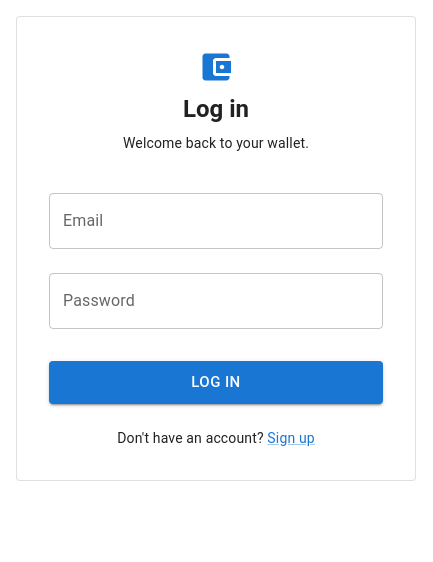
Test: Login › shows an error on invalid credentials without navigating
Type "alice@example.com" into the field labelled "Email".
click(216, 221); type("alice@example.com")  # box [49, 193, 383, 249]
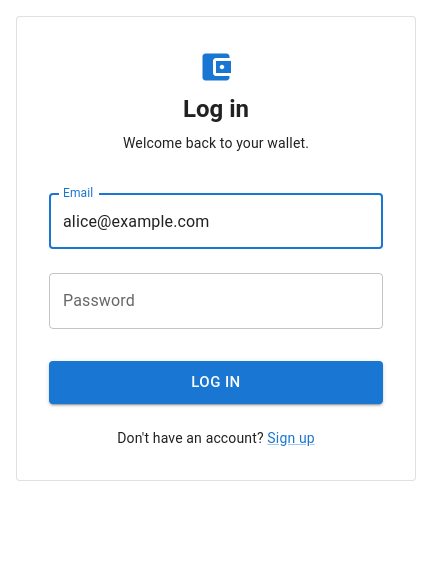
Type "wrongpassword" into the password field labelled "Password".
click(216, 301); type("wrongpassword")  # box [49, 273, 383, 329]
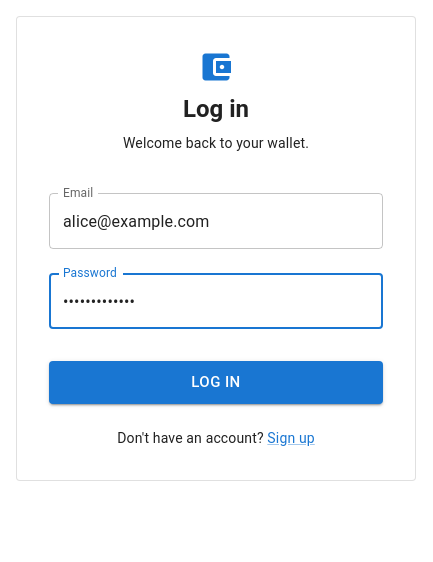
Click the button "Log in".
click(216, 383)  # box [49, 361, 383, 404]
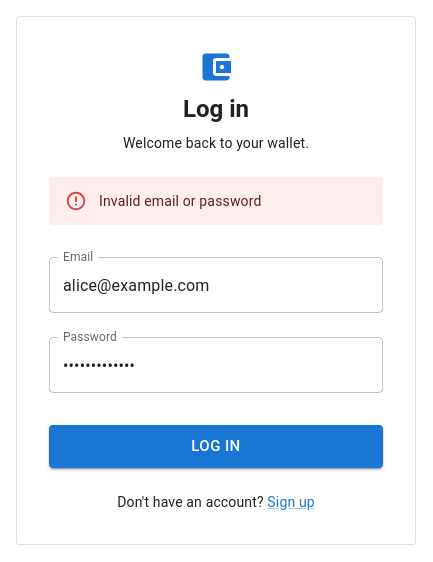
Check: the message reads "Invalid email or password", box [99, 193, 262, 209]
